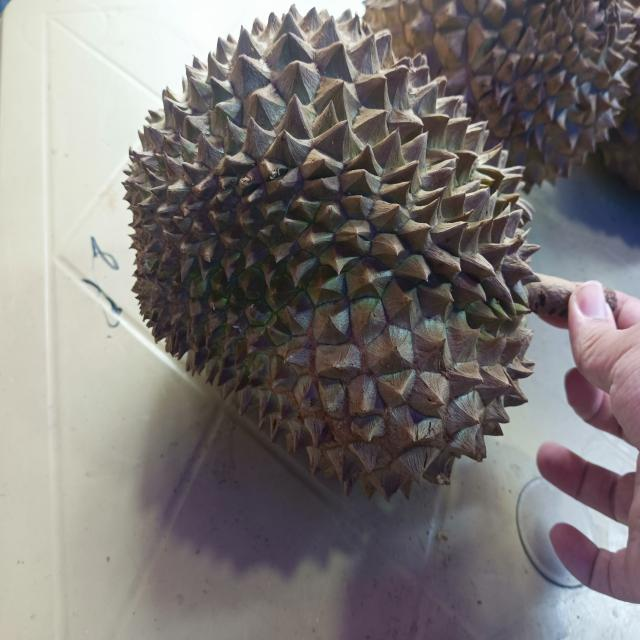mature: (123, 6, 575, 500), (365, 0, 637, 188)
